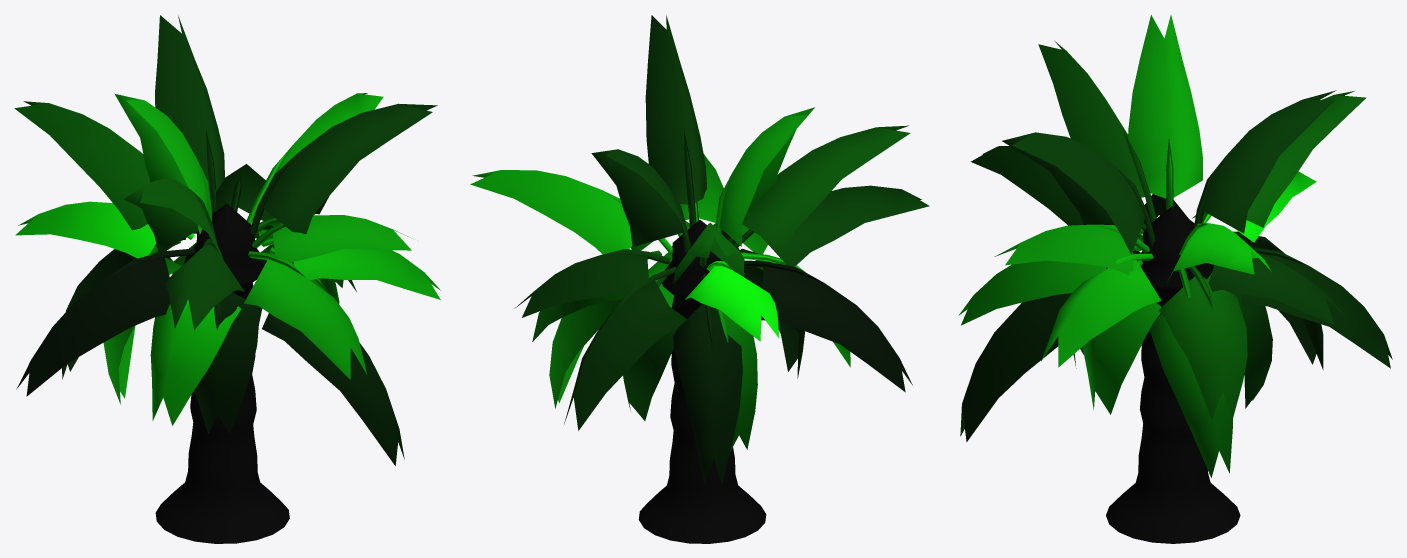
The model's file is M_P10_Tree_3.fbx.
The picture shows the model from 3 angles, left to right: view 1: azimuth 30°, elevation 25°; view 2: azimuth 150°, elevation 25°; view 3: azimuth 270°, elevation 25°; orthographic projection. The views are drawn at different scales.
Visible parts, largest first — view 1: Palm_1_3; view 2: Palm_1_3; view 3: Palm_1_3.
Part boxes in pixels (left/top/right/bottom): Palm_1_3: left=14, top=15, right=440, bottom=543; Palm_1_3: left=470, top=15, right=929, bottom=543; Palm_1_3: left=958, top=15, right=1392, bottom=543.
Size of the model in its own units: 299 by 312 by 274.
